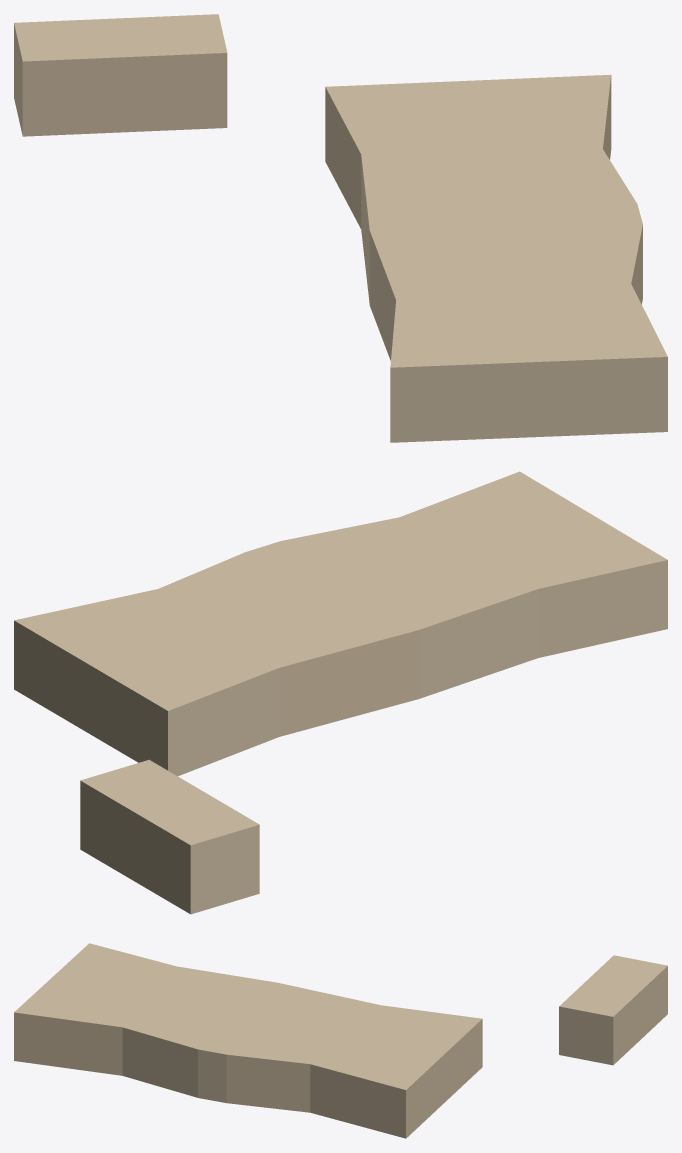
File: -28_18-estimated-coarse.glb
The picture shows the model from 3 angles, top to bottom: view 1: azimuth 30°, elevation 25°; view 2: azimuth 150°, elevation 25°; view 3: azimuth 270°, elevation 25°; orthographic projection. The views are drawn at different scales.
Size of the model in its own units: 77.9 by 12 by 147.
